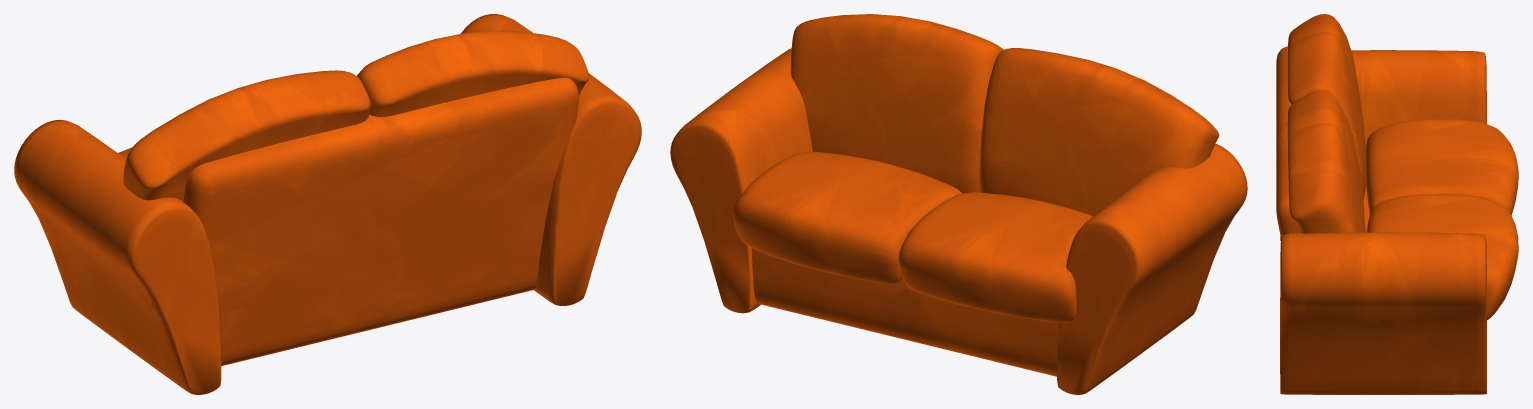
3 renders of one model, left to right at view 1: azimuth 30°, elevation 25°; view 2: azimuth 150°, elevation 25°; view 3: azimuth 270°, elevation 25°, orthographic. The views are drawn at different scales.
Visible parts, largest first — view 1: Cylinder005; view 2: Cylinder005; view 3: Cylinder005.
Boxes of the visible parts, left/top/right/bottom form: Cylinder005: left=14, top=14, right=641, bottom=394; Cylinder005: left=670, top=14, right=1247, bottom=394; Cylinder005: left=1276, top=14, right=1518, bottom=394.
Bounding box in the file's own units: 2.3 × 1.16 × 1.09.
Materials: 1 (1 with a texture image).
